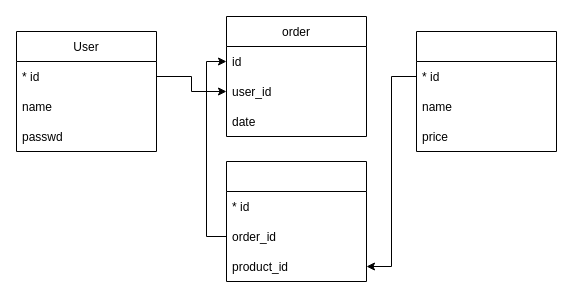
This 573x298 diagram has some shape labels left out. The box of each missing label's shape, as (x1, y1, x2, y2) in pixels:
order_list: (226, 160, 366, 282)
product: (416, 30, 556, 152)
